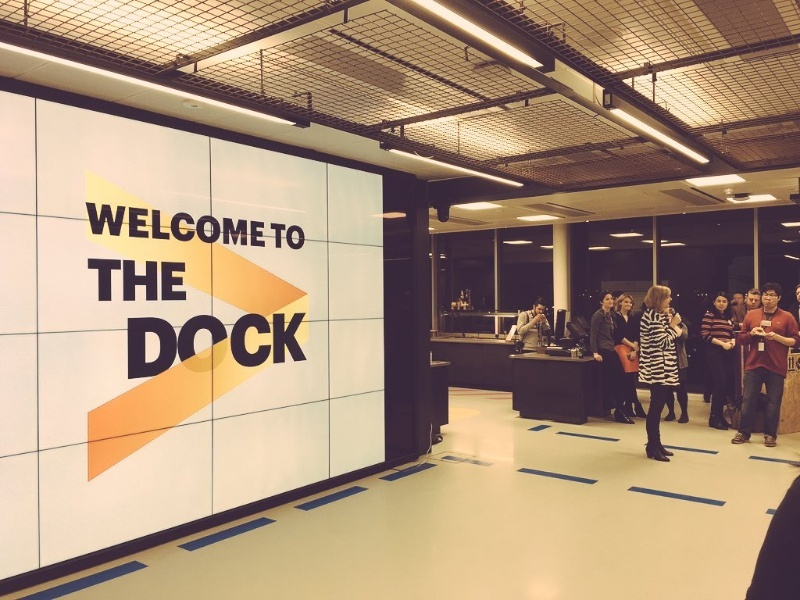text: (129, 311, 144, 381), (145, 311, 160, 381), (161, 311, 176, 381), (177, 311, 192, 381), (193, 311, 208, 381), (209, 311, 224, 381), (225, 311, 240, 381), (241, 311, 256, 381), (257, 311, 272, 381), (273, 311, 288, 381), (289, 311, 304, 381), (97, 201, 112, 249), (113, 201, 128, 249), (129, 201, 144, 249), (145, 201, 160, 249), (161, 201, 176, 249), (177, 201, 192, 249), (193, 201, 208, 249), (209, 201, 224, 249), (225, 201, 240, 249), (241, 201, 256, 249), (97, 257, 112, 303), (113, 257, 128, 303), (129, 257, 144, 303), (145, 257, 160, 303), (161, 257, 176, 303), (85, 201, 96, 249), (257, 201, 268, 249), (177, 257, 187, 303), (273, 222, 288, 251), (289, 222, 304, 251), (87, 257, 96, 303), (305, 311, 308, 381), (788, 356, 800, 370), (126, 311, 128, 381), (270, 222, 272, 251), (305, 222, 306, 251)
